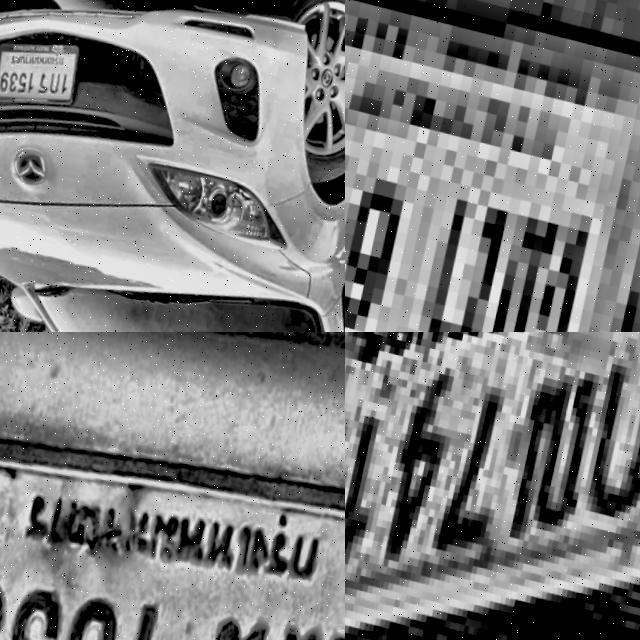license-plate: (345, 0, 640, 332), (0, 357, 345, 640), (345, 332, 640, 640), (0, 22, 87, 115)
